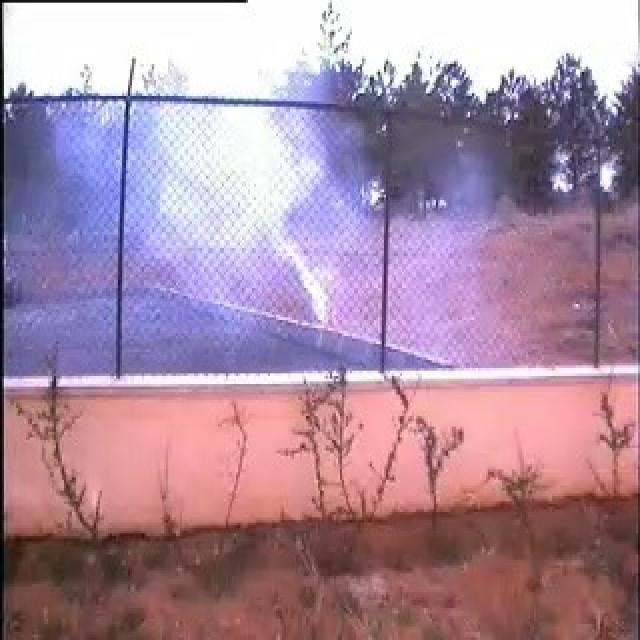smoke: (80, 97, 383, 380)
